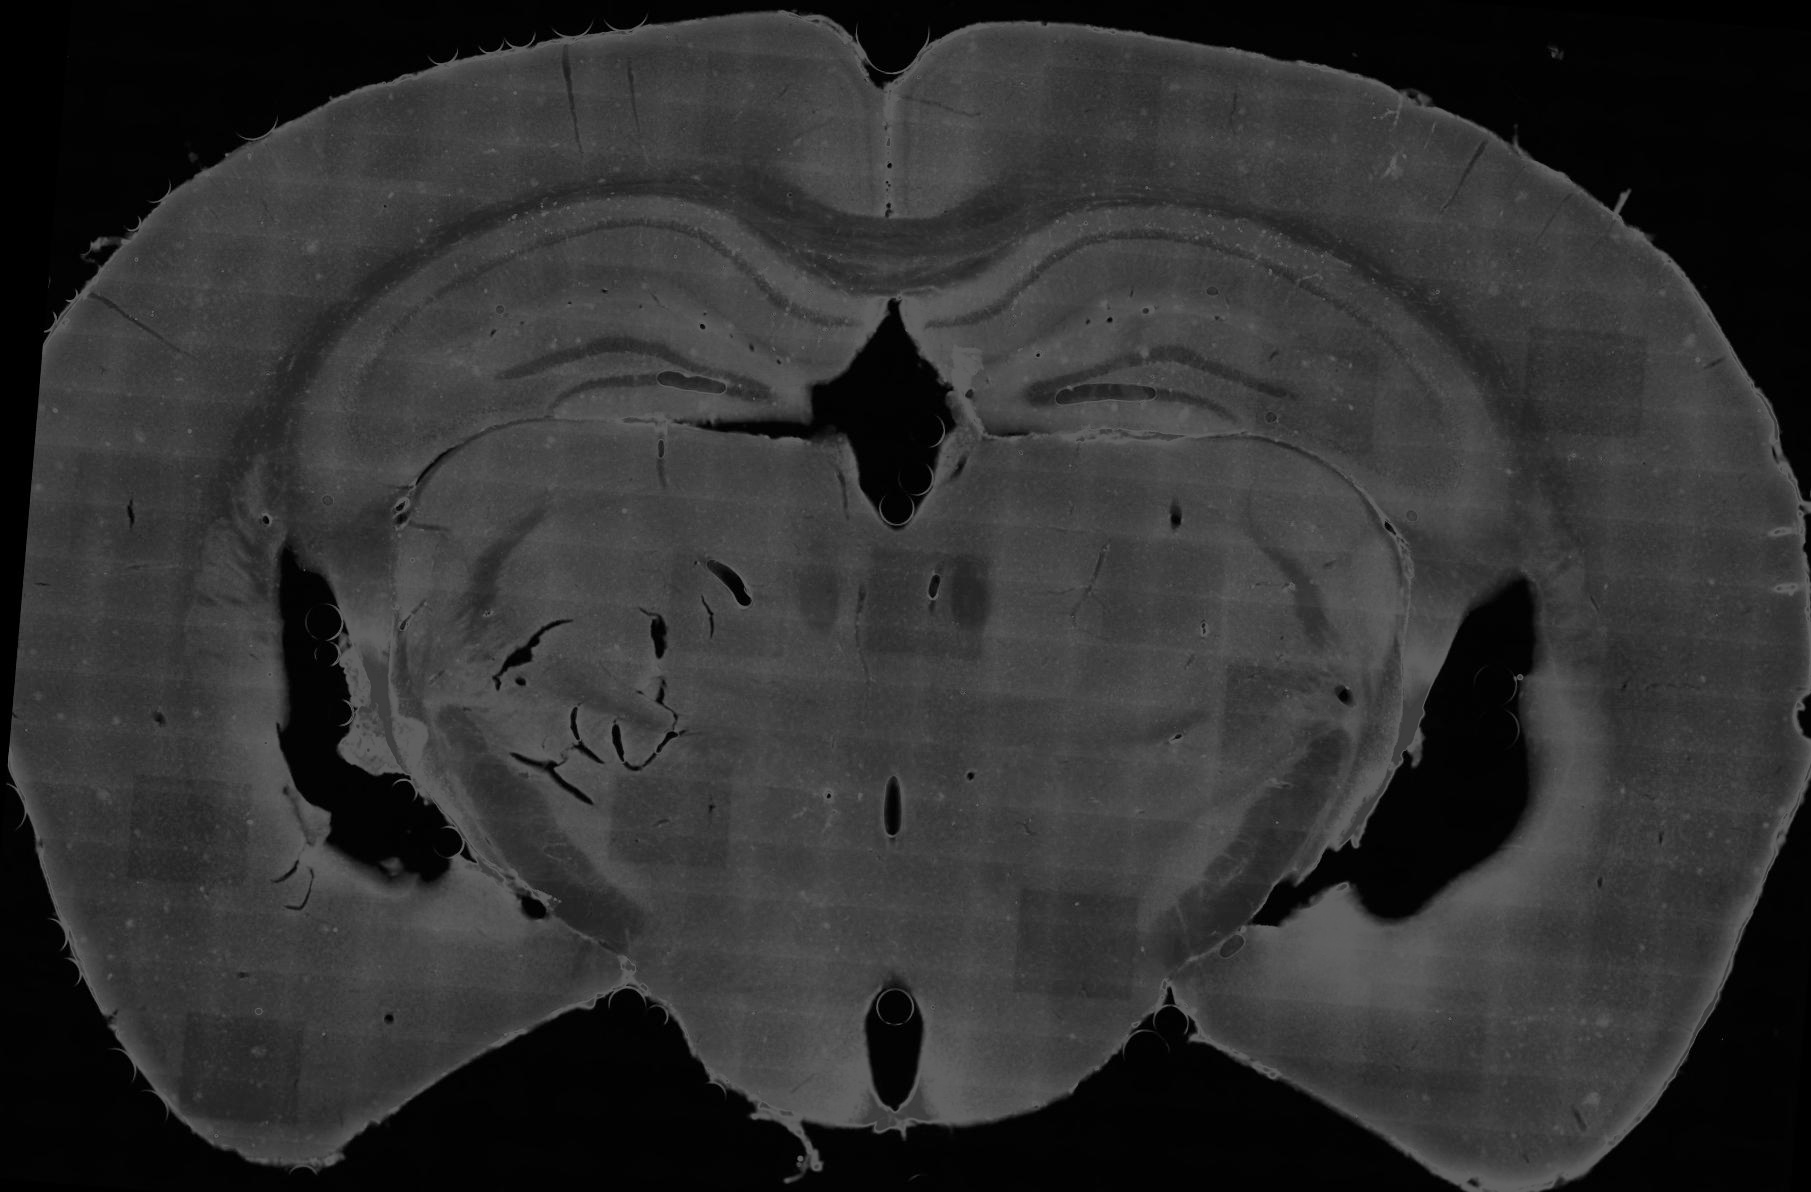Hippocampal formation: (902, 205, 1510, 541), (298, 196, 890, 529)
Hypothalamus: (898, 738, 1310, 1133), (549, 808, 898, 1131)
Retrosplenial area: (890, 43, 999, 220), (788, 35, 890, 218)
Somatosensory area: (1225, 51, 1810, 716), (23, 31, 648, 600)
Thalamus: (896, 386, 1401, 838), (394, 420, 898, 841)
